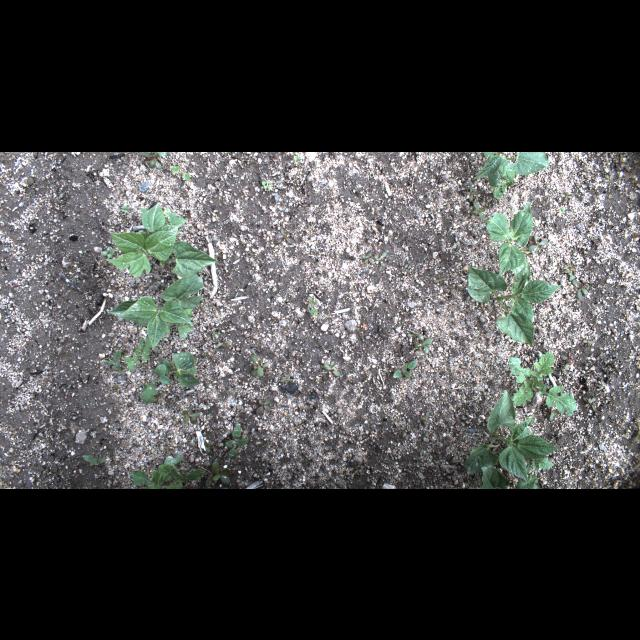crop: (466, 389, 560, 486), (106, 202, 220, 278), (466, 258, 560, 346), (106, 274, 204, 348), (472, 151, 550, 197), (486, 206, 534, 276), (156, 350, 200, 388), (476, 465, 512, 487)
weed: (508, 350, 578, 414), (132, 454, 200, 488), (226, 420, 248, 460), (391, 358, 419, 378), (212, 461, 232, 485), (106, 349, 126, 371), (250, 352, 268, 376), (140, 381, 158, 404), (526, 233, 550, 250), (415, 332, 433, 353), (323, 359, 343, 377), (170, 163, 190, 179), (140, 151, 160, 167), (136, 338, 152, 358), (124, 352, 140, 372), (257, 396, 273, 414), (464, 184, 480, 202), (574, 278, 588, 298), (562, 264, 578, 280), (81, 456, 105, 466), (182, 410, 198, 424), (308, 295, 318, 317), (375, 250, 387, 268), (474, 202, 486, 220), (422, 409, 432, 427), (101, 246, 115, 258), (361, 252, 373, 266), (480, 196, 494, 206), (260, 179, 274, 187), (561, 190, 571, 200), (585, 398, 595, 408), (603, 174, 615, 182), (432, 278, 446, 284), (121, 205, 131, 213), (294, 154, 298, 164)
